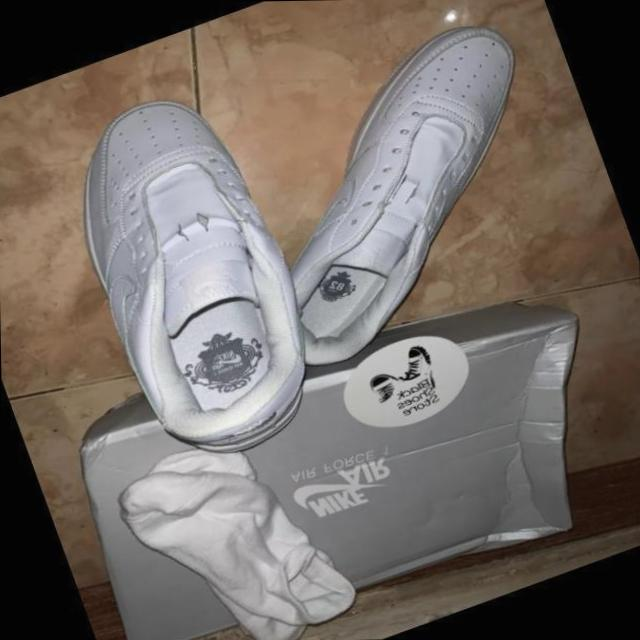nike_fake_airforce: (192, 7, 596, 382), (41, 74, 340, 477)
